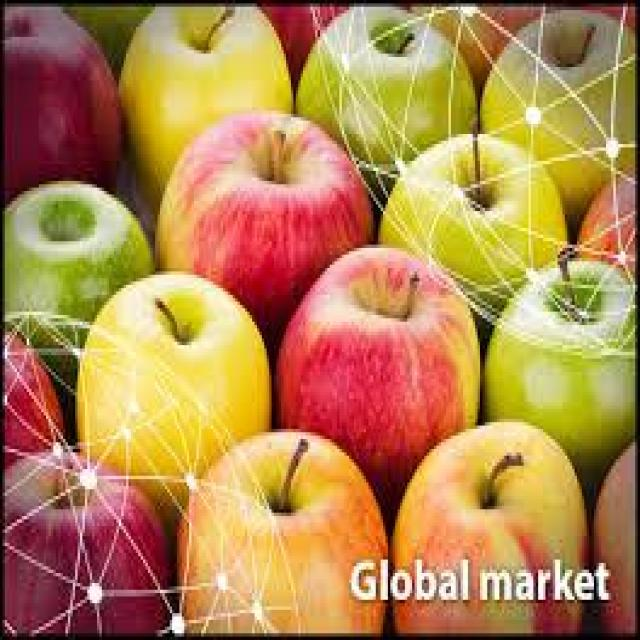apple: (150, 104, 378, 322), (291, 245, 494, 462), (177, 429, 381, 633), (393, 419, 596, 623), (85, 265, 259, 479), (121, 10, 298, 178), (14, 436, 158, 636), (393, 131, 562, 298), (485, 265, 635, 442), (315, 7, 470, 174), (0, 184, 138, 342), (2, 7, 128, 174)
